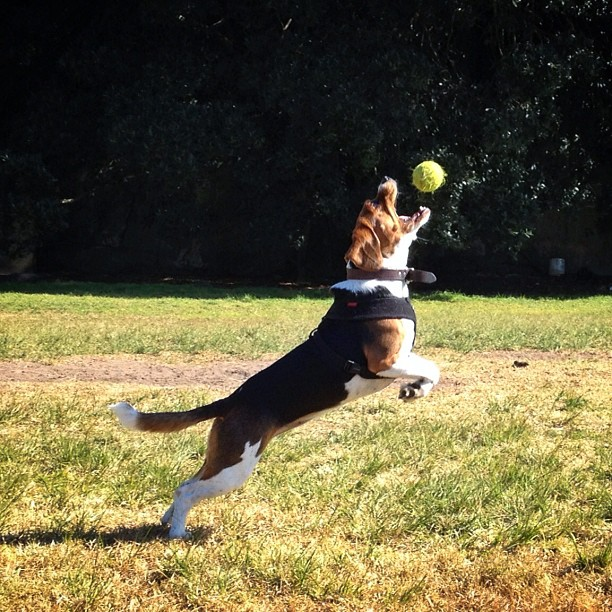animal: (145, 155, 460, 561)
grass: (14, 302, 612, 612)
vegetation: (22, 4, 593, 278)
